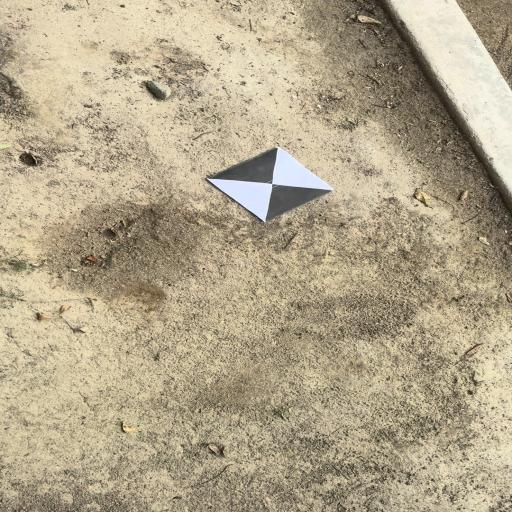target: (209, 149, 333, 221)
